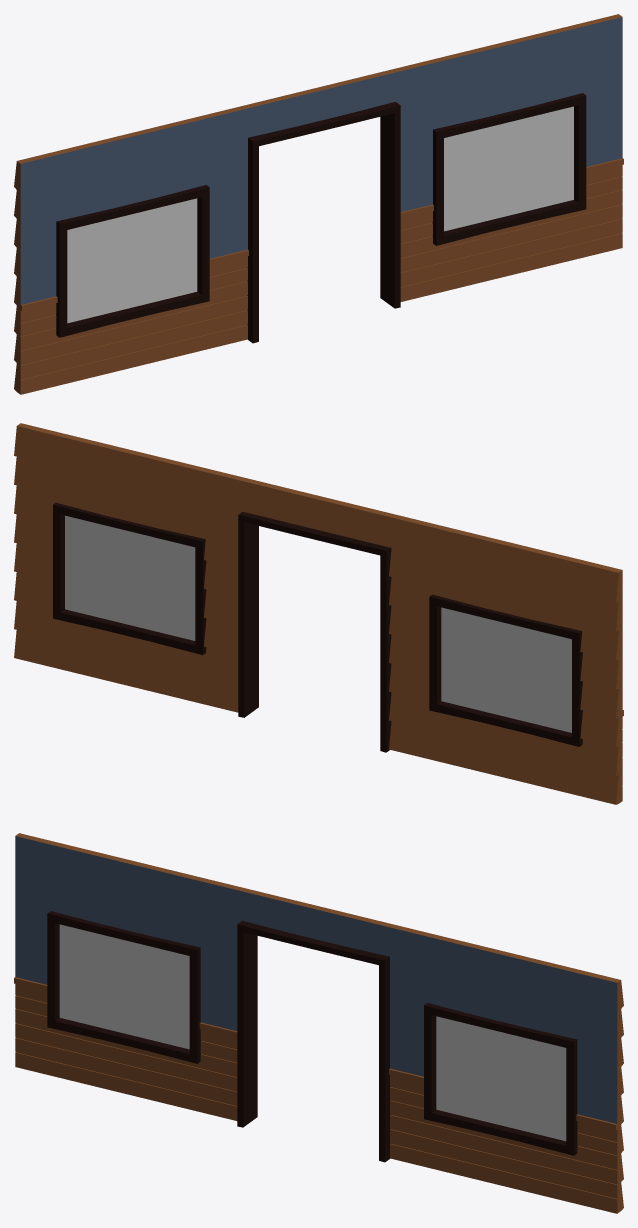
The model's file is ww_saloon_door_d.glb.
3 renders of one model, top to bottom at view 1: azimuth 30°, elevation 25°; view 2: azimuth 150°, elevation 25°; view 3: azimuth 330°, elevation 25°, orthographic.
Visible parts, largest first — view 1: Saloon_Door_D; view 2: Saloon_Door_D; view 3: Saloon_Door_D.
Boxes of the visible parts, x1,y1,x2,y2 form: Saloon_Door_D: (14, 14, 623, 394); Saloon_Door_D: (14, 423, 623, 804); Saloon_Door_D: (14, 833, 623, 1213).
Bounding box in the file's own units: 9.6 × 3.53 × 0.3996.
